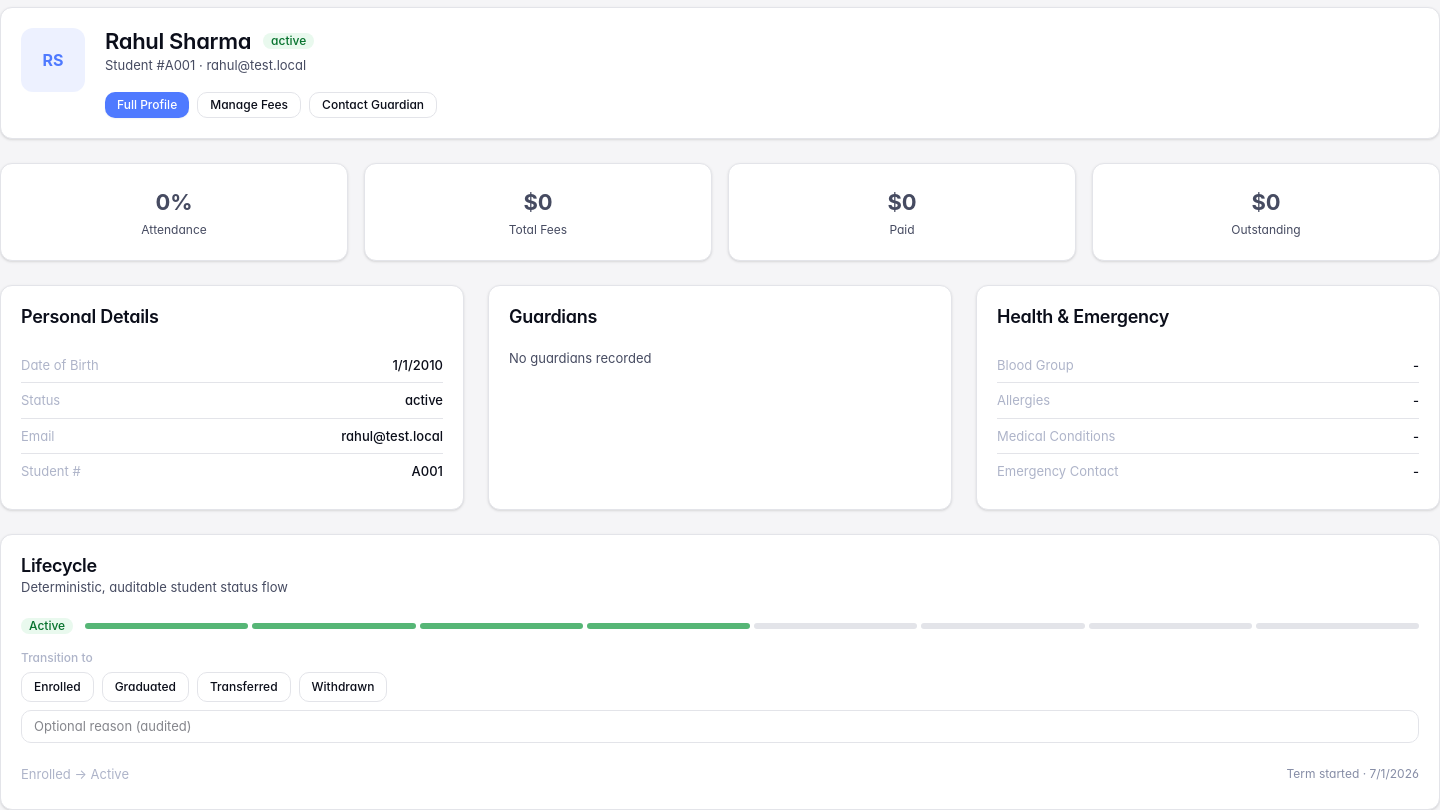
Test: Student 360 page — lifecycle & documents › shows an error message when a transition fails and does not refetch
(page scrolled)
Expected: the heading "Lifecycle" is shown, [21,555,97,576]
Click the button "Enrolled".
click(57, 687)  # box [21,672,94,702]
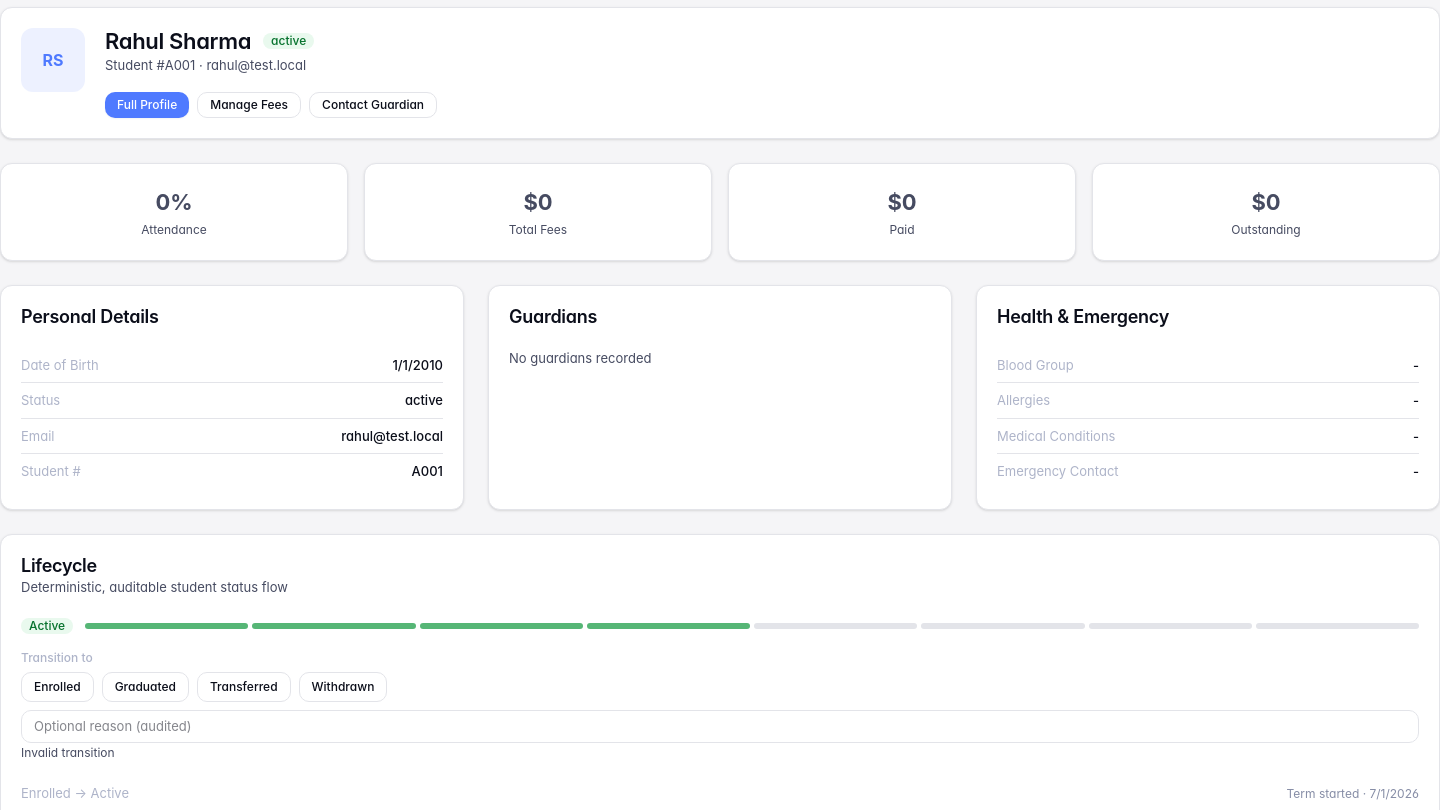
Expected: the text "Invalid transition" is shown, [21,745,115,760]
